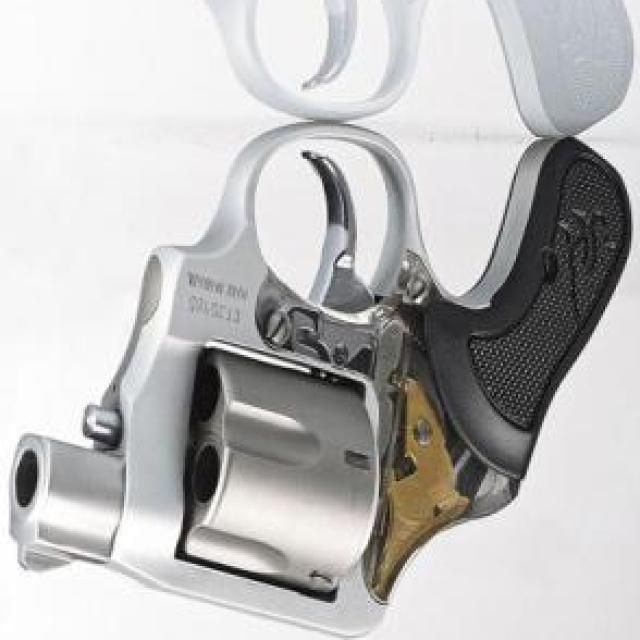pistol: (1, 120, 636, 638)
